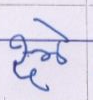e_matra: (33, 17, 71, 40)
